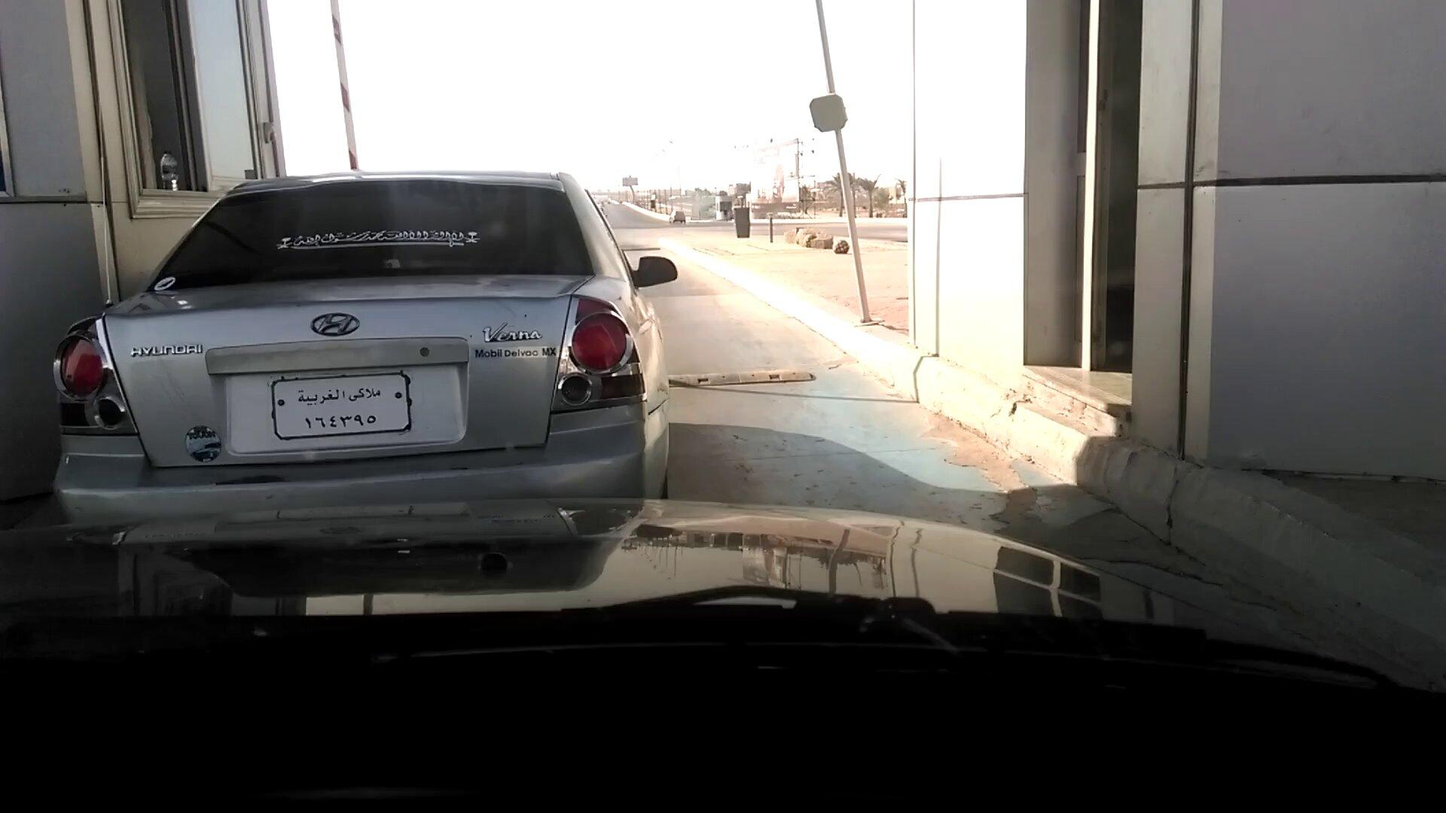Bump: (665, 363, 819, 388)
